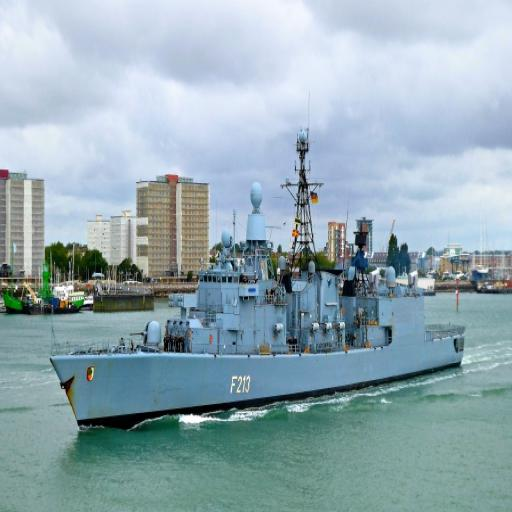Fragata: (47, 118, 468, 437)
